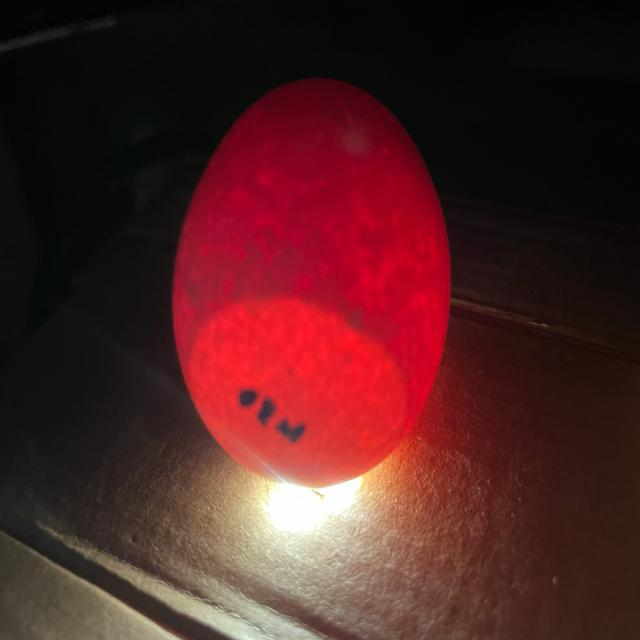fertile: (172, 80, 450, 487)
